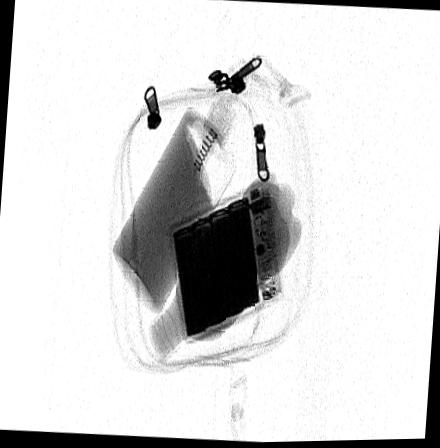Powerbank: (167, 181, 284, 342)
